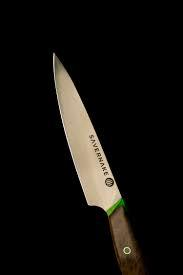Knife: (51, 51, 151, 274)
